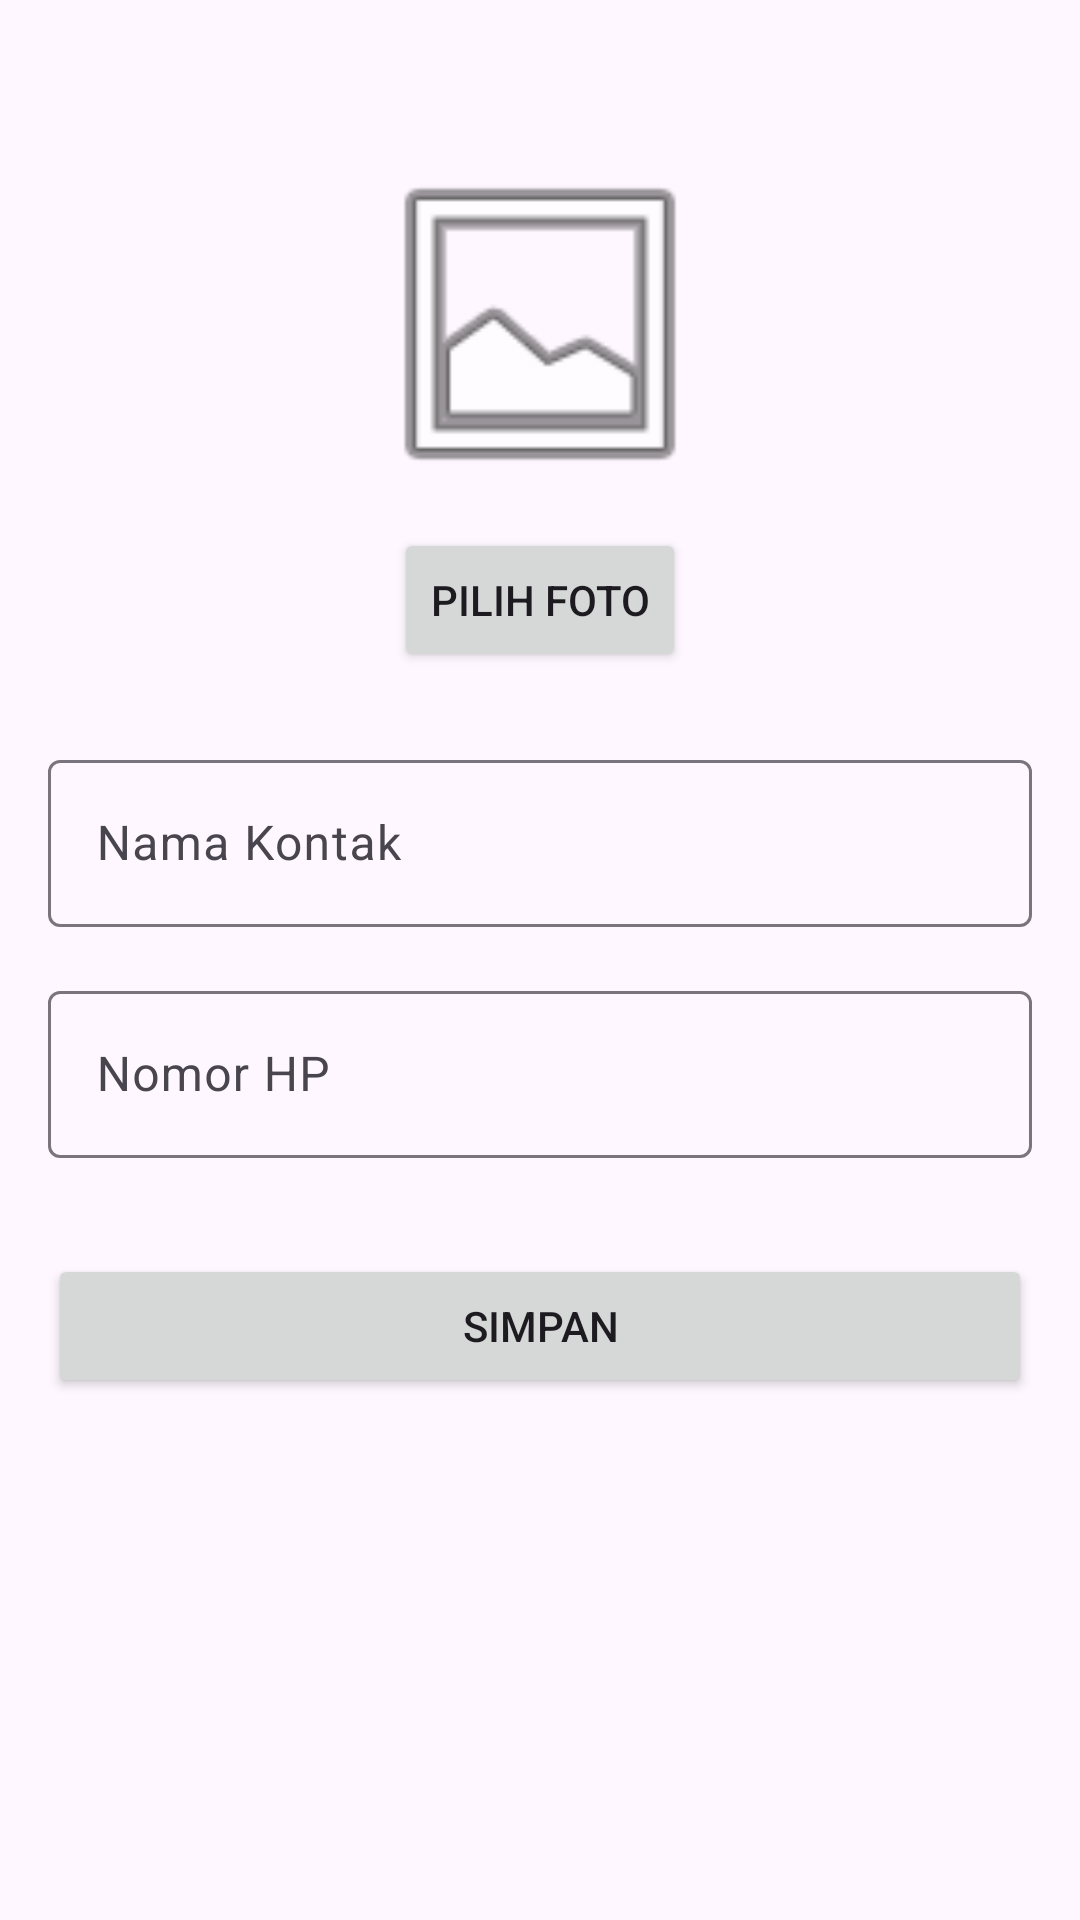

Point at icon controls on the screen. Image size 1080px x 1920px, points as (x,y).
gallery: (540,324)
